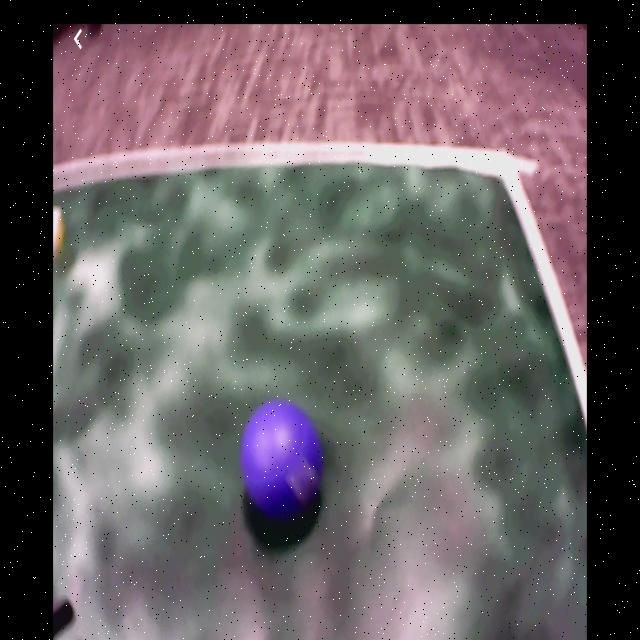ball: (242, 400, 324, 514)
